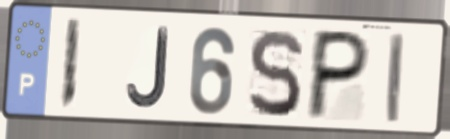6: (186, 23, 238, 118)
I: (56, 16, 84, 113), (385, 29, 407, 126)
J: (124, 25, 171, 111)
P: (302, 26, 374, 123)
S: (245, 26, 304, 120)
